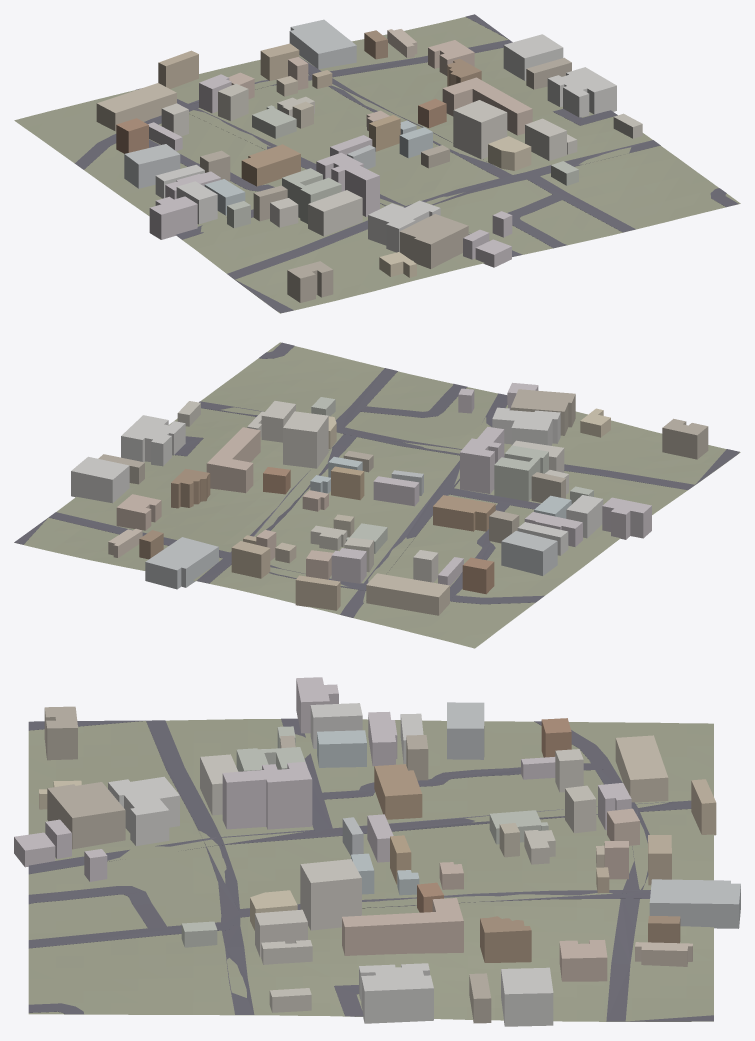
Rendered from chunk_10_8.glb.
3 views of the same model, one above another, from view 1: azimuth 30°, elevation 25°; view 2: azimuth 150°, elevation 25°; view 3: azimuth 270°, elevation 25° (orthographic). The views are drawn at different scales.
Visible parts, largest first — view 1: geometry_59, geometry_54, geometry_2, geometry_5, geometry_39, geometry_10, geometry_35, geometry_70, geometry_1, geometry_48, geometry_24, geometry_37 (+47 smaller); view 2: geometry_59, geometry_39, geometry_10, geometry_35, geometry_2, geometry_5, geometry_1, geometry_0, geometry_31, geometry_48, geometry_30, geometry_63 (+37 smaller); view 3: geometry_59, geometry_1, geometry_35, geometry_2, geometry_39, geometry_54, geometry_5, geometry_70, geometry_48, geometry_63, geometry_31, geometry_10 (+51 smaller).
Part boxes in pixels (box(x1,y1,x2,y2)): geometry_59: box(14, 17, 740, 313); geometry_54: box(399, 214, 468, 268); geometry_2: box(547, 67, 616, 117); geometry_5: box(453, 100, 507, 159); geometry_39: box(289, 19, 356, 69); geometry_10: box(96, 83, 176, 131); geometry_35: box(442, 77, 532, 135); geometry_70: box(227, 172, 528, 279); geometry_1: box(316, 152, 379, 216); geometry_48: box(368, 200, 440, 252); geometry_24: box(308, 190, 362, 236); geometry_37: box(241, 144, 300, 186); geometry_59: box(14, 342, 740, 648); geometry_39: box(145, 537, 218, 589); geometry_10: box(366, 573, 449, 615); geometry_35: box(206, 427, 260, 493); geometry_2: box(121, 415, 185, 466); geometry_5: box(283, 411, 328, 468); geometry_1: box(460, 426, 504, 493); geometry_0: box(494, 445, 548, 501); geometry_31: box(71, 456, 129, 503); geometry_48: box(492, 407, 560, 445); geometry_30: box(501, 531, 557, 575); geometry_63: box(340, 393, 507, 617); geometry_59: box(28, 719, 713, 1021); geometry_1: box(222, 762, 312, 829); geometry_35: box(342, 898, 463, 955); geometry_2: box(359, 963, 433, 1023); geometry_39: box(649, 879, 740, 928); geometry_54: box(47, 782, 125, 849); geometry_5: box(300, 859, 361, 930); geometry_70: box(146, 720, 240, 925); geometry_48: box(108, 776, 179, 845); geometry_63: box(28, 800, 691, 874); geometry_31: box(501, 967, 553, 1026); geometry_10: box(615, 735, 668, 802).
Bounding box in the file's own units: 263 × 24.67 × 265.
